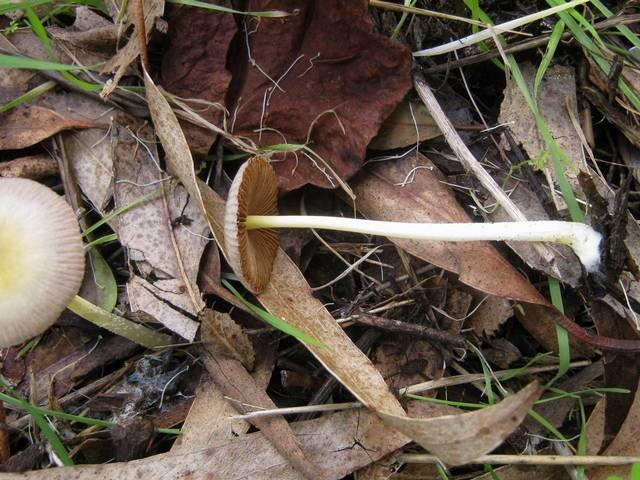Edible Mushroom: (217, 145, 393, 321), (0, 175, 86, 348)
